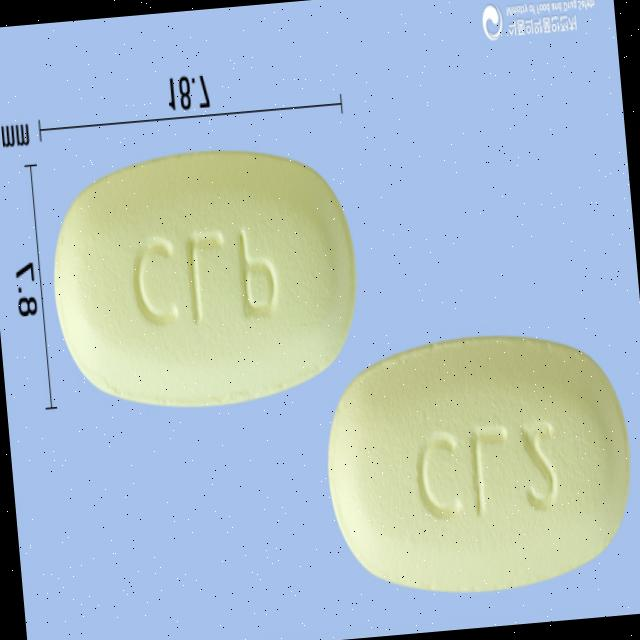Celltrion Clarithromycin: (41, 134, 368, 424), (314, 317, 640, 607)
